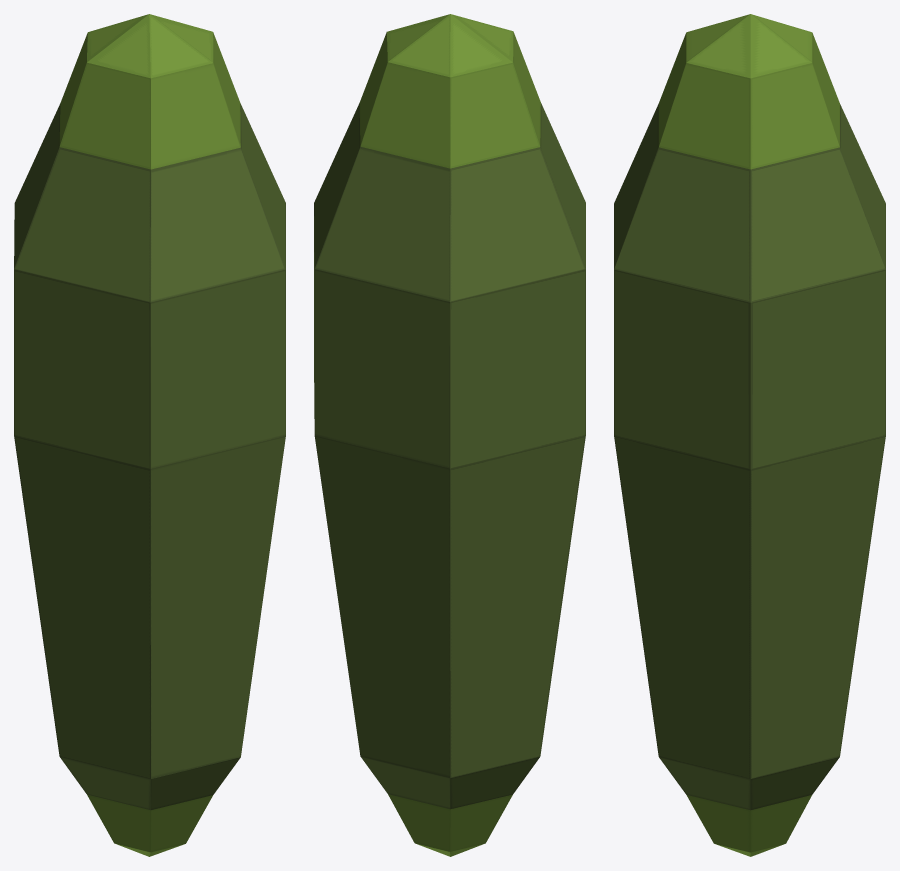
File: LArmUnder.fbx
3 views of the same model, side by side, from view 1: azimuth 30°, elevation 25°; view 2: azimuth 150°, elevation 25°; view 3: azimuth 270°, elevation 25° (orthographic).
Visible parts, largest first — view 1: Shape_IndexedFaceSet.042, Shape_IndexedFaceSet.041; view 2: Shape_IndexedFaceSet.042, Shape_IndexedFaceSet.041; view 3: Shape_IndexedFaceSet.042, Shape_IndexedFaceSet.041.
Part boxes in pixels (left/top/right/bottom): Shape_IndexedFaceSet.042: left=14, top=103, right=285, bottom=810; Shape_IndexedFaceSet.041: left=59, top=14, right=240, bottom=856; Shape_IndexedFaceSet.042: left=314, top=103, right=585, bottom=809; Shape_IndexedFaceSet.041: left=359, top=14, right=540, bottom=856; Shape_IndexedFaceSet.042: left=614, top=104, right=885, bottom=810; Shape_IndexedFaceSet.041: left=658, top=14, right=839, bottom=856.
Bounding box in the file's own units: 0.0911 × 0.2699 × 0.0789.
